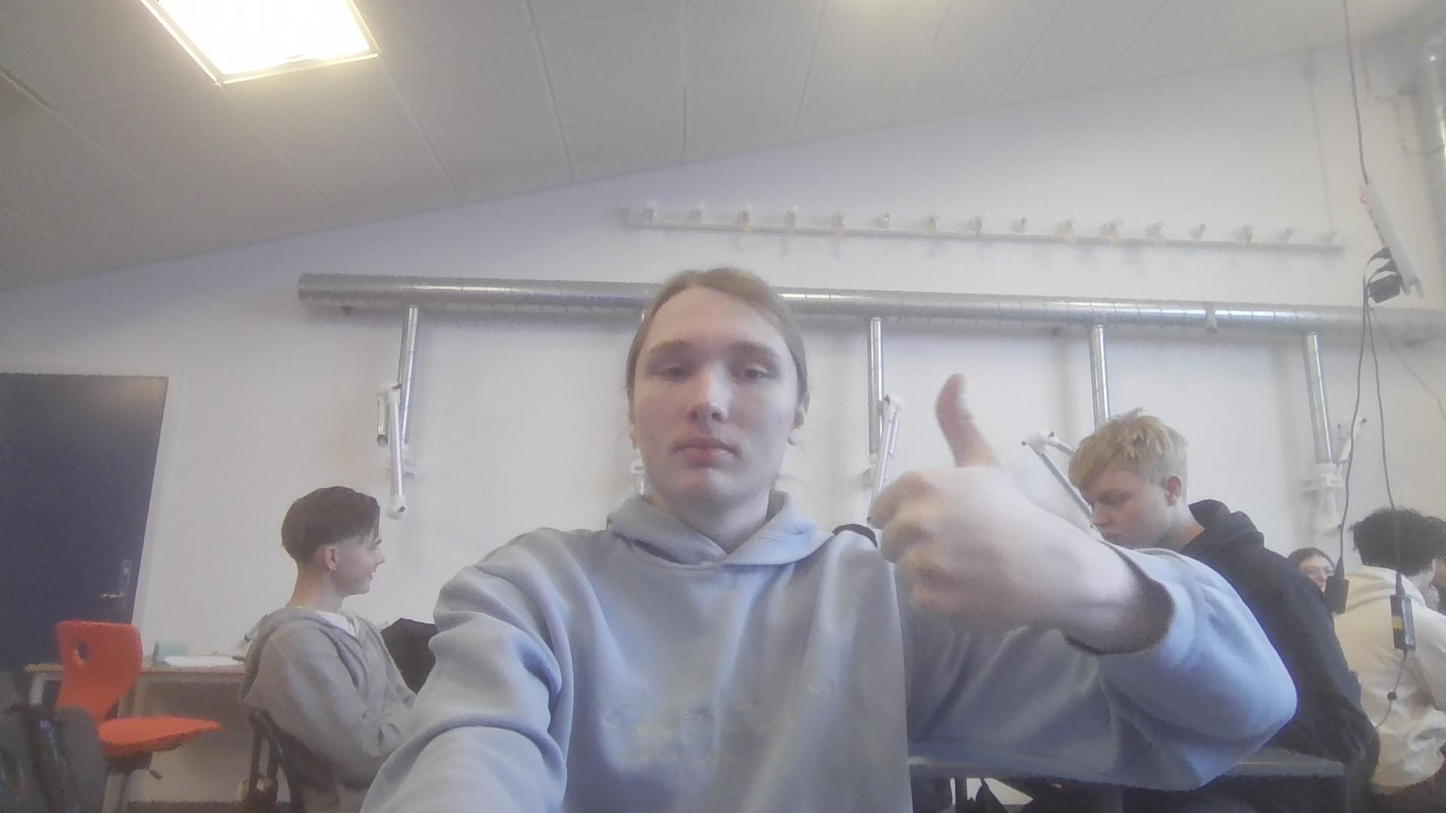thumbs up: (881, 364, 1051, 635)
